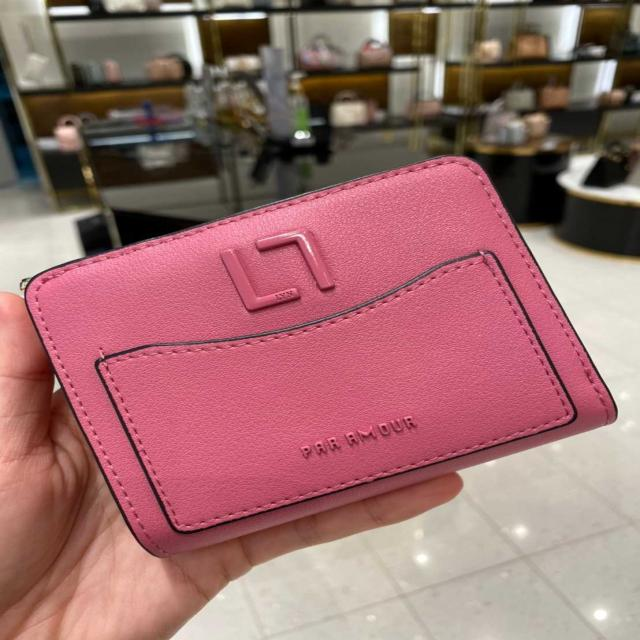Handbag: (22, 142, 624, 565)
